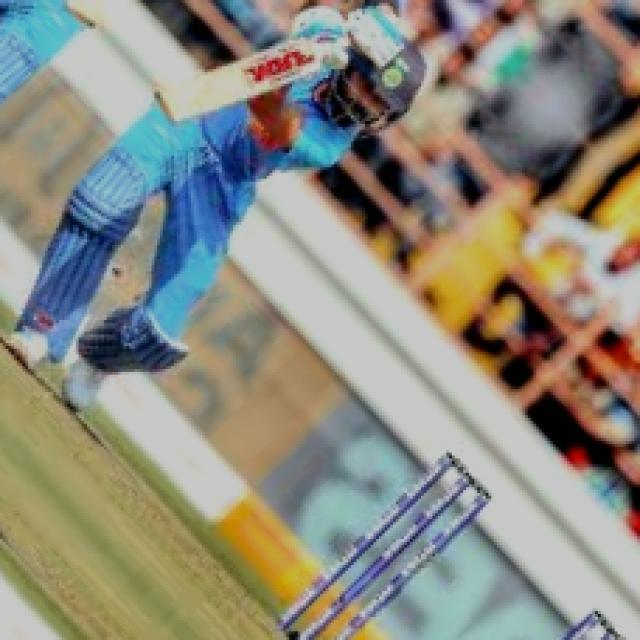bat: (144, 41, 339, 127)
toe: (145, 86, 183, 125)
